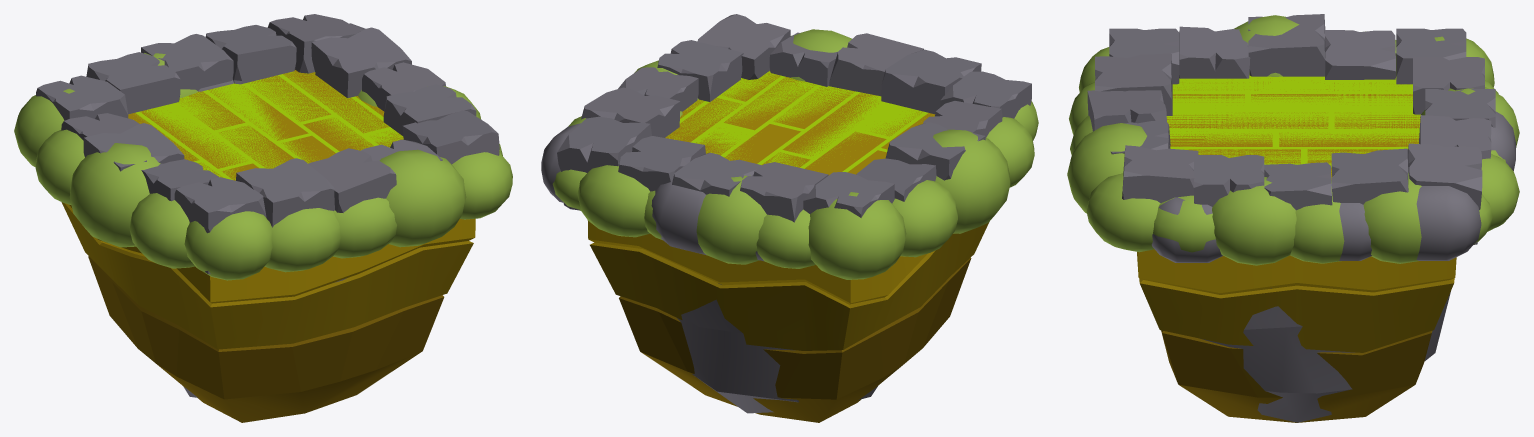
The model's file is Tile (2).fbx.
3 renders of one model, left to right at view 1: azimuth 30°, elevation 25°; view 2: azimuth 150°, elevation 25°; view 3: azimuth 270°, elevation 25°, orthographic. The views are drawn at different scales.
Visible parts, largest first — view 1: Tile_Grass, Tile_Stone; view 2: Tile_Grass, Tile_Stone, Tile_Grass_and_stone; view 3: Tile_Grass, Tile_Stone, Tile_Grass_and_stone.
Part boxes in pixels (left/top/right/bottom): Tile_Grass: left=14, top=53, right=512, bottom=422; Tile_Stone: left=36, top=14, right=499, bottom=397; Tile_Grass: left=552, top=29, right=1038, bottom=422; Tile_Stone: left=557, top=14, right=1031, bottom=413; Tile_Grass_and_stone: left=541, top=123, right=764, bottom=261; Tile_Grass: left=1067, top=15, right=1519, bottom=422; Tile_Stone: left=1087, top=14, right=1495, bottom=422; Tile_Grass_and_stone: left=1151, top=111, right=1515, bottom=262.
Size of the model in its own units: 14.26 by 10.6 by 13.89.
